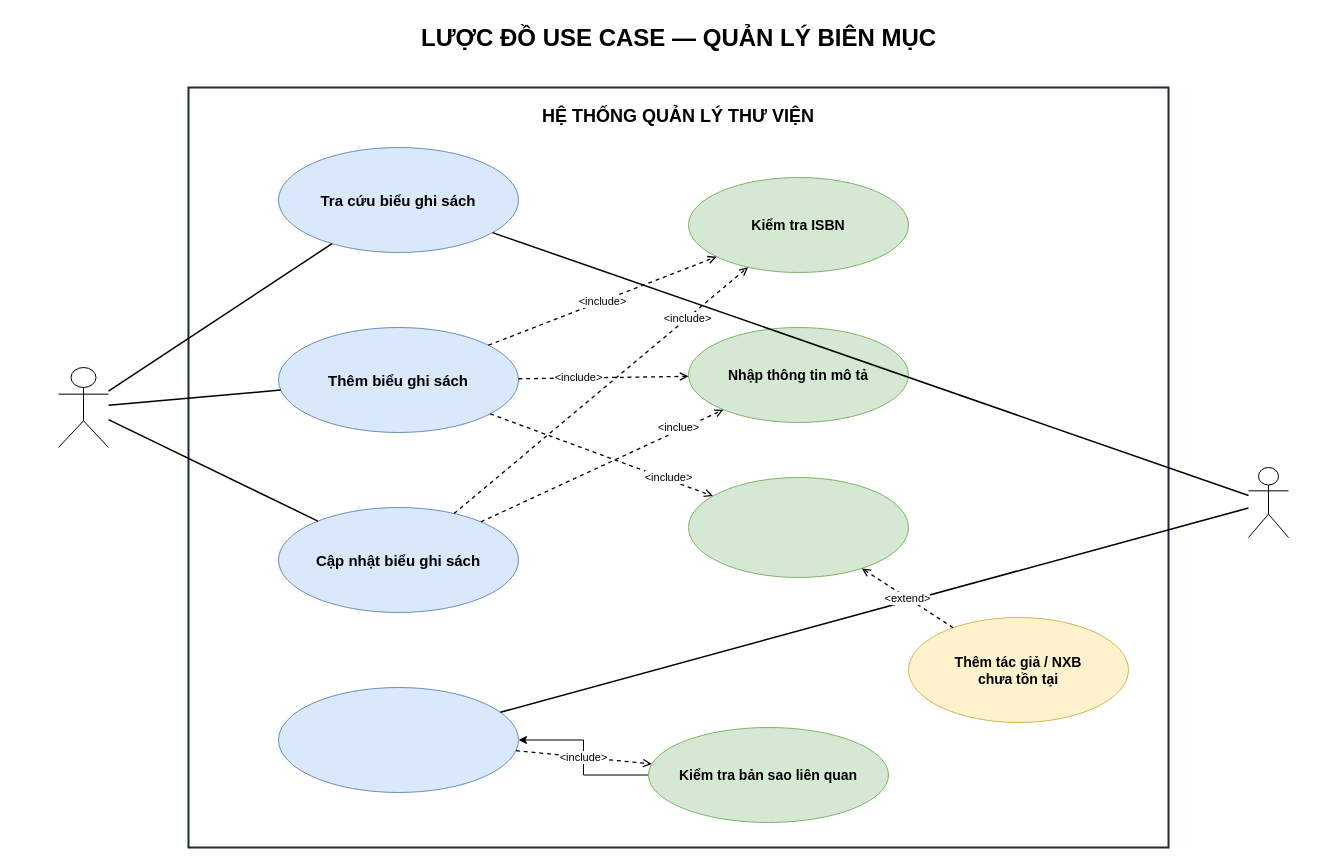
Image size: 1341x865. Some labels were removed from this diagram. The centre of each missing label's shape, as x and y in pixels:
Gán tác giả, NXB và thể loại: point 798,527
Ngừng sử dụng biểu ghi: point 398,739
Nhân viên biên mục: point 83,407
Quản lý thư viện: point 1268,502
